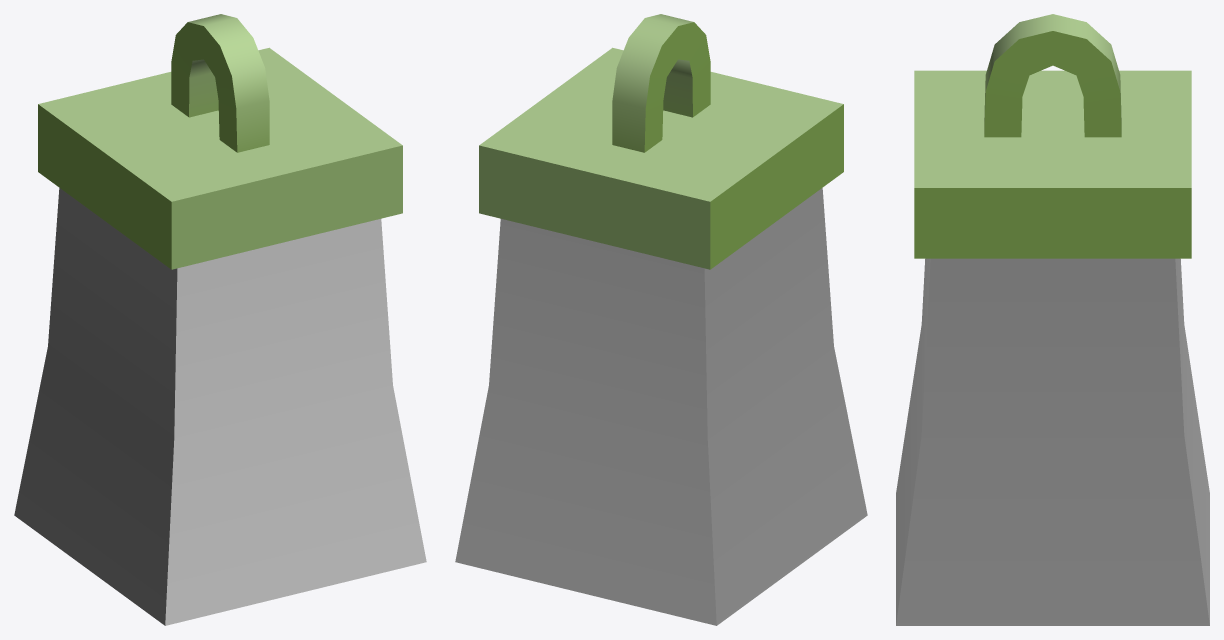
The model's file is RestaurantGrater_11.glb.
3 views of the same model, side by side, from view 1: azimuth 30°, elevation 25°; view 2: azimuth 150°, elevation 25°; view 3: azimuth 270°, elevation 25° (orthographic). The views are drawn at different scales.
Visible parts, largest first — view 1: RestaurantGrater; view 2: RestaurantGrater; view 3: RestaurantGrater.
Boxes of the visible parts, x1,y1,x2,y2 form: RestaurantGrater: (14, 14, 426, 625); RestaurantGrater: (455, 14, 867, 625); RestaurantGrater: (896, 14, 1209, 625).
Size of the model in its own units: 0.211 by 0.3983 by 0.211.
